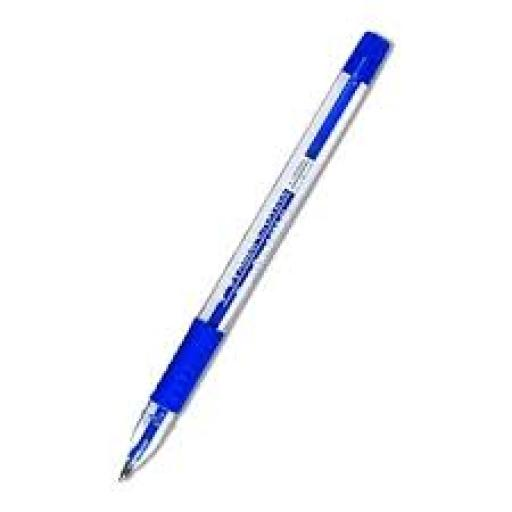tukenmez-kalem: (122, 12, 416, 477)
